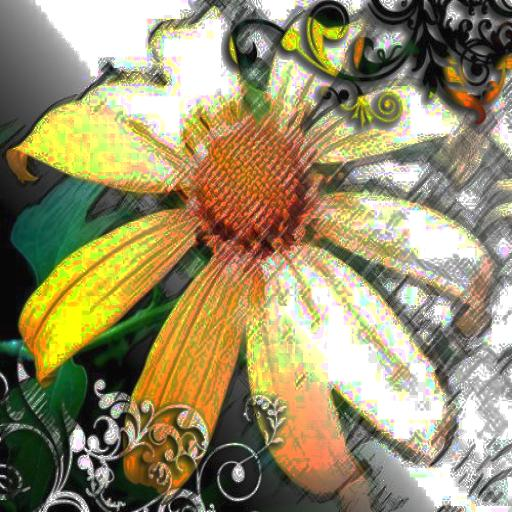daisy: (41, 28, 442, 448)
